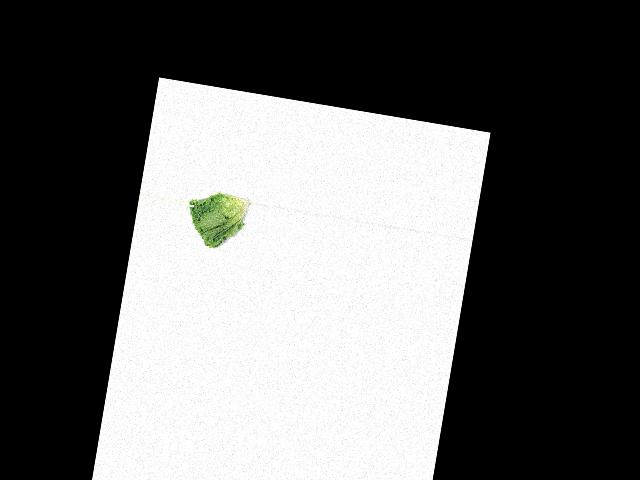lettuce: (182, 183, 253, 258)
